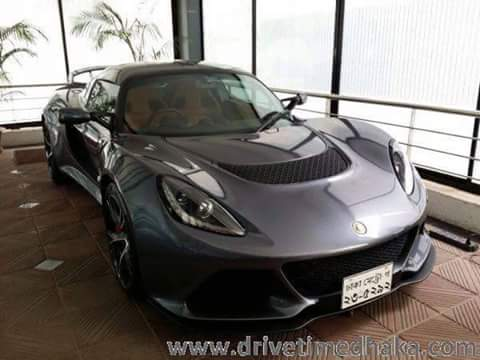registration_plate: (341, 260, 394, 310)
